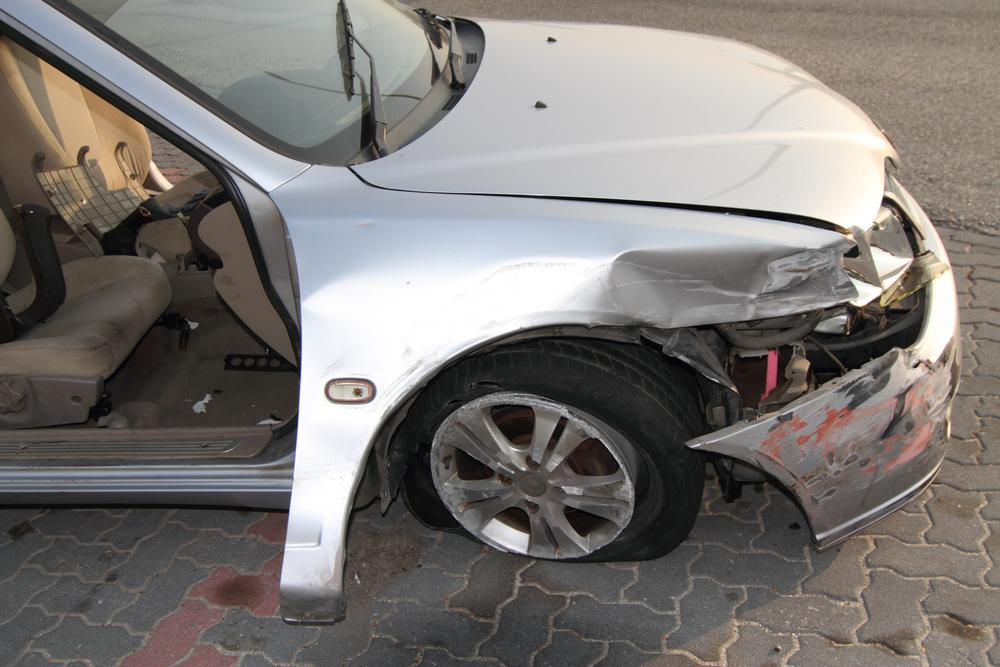dent: (611, 248, 774, 324)
scratch: (753, 343, 961, 523), (745, 246, 859, 316)
tire flat: (396, 338, 711, 562)
